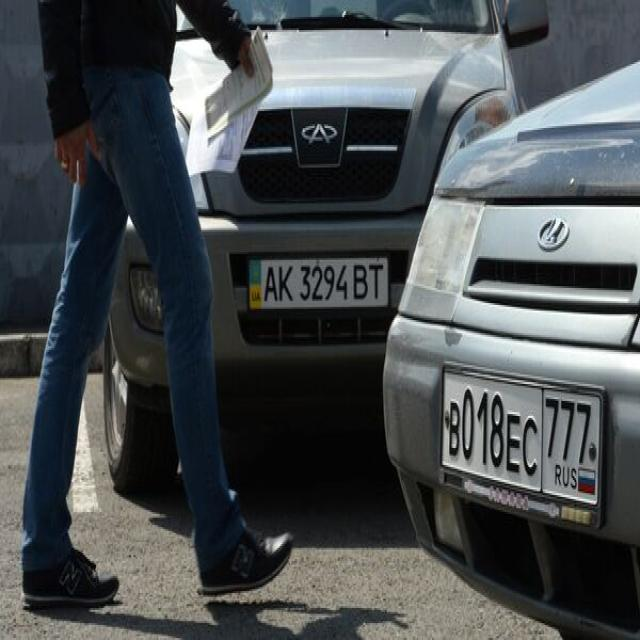number-plates: (434, 360, 608, 535), (246, 251, 389, 318)
